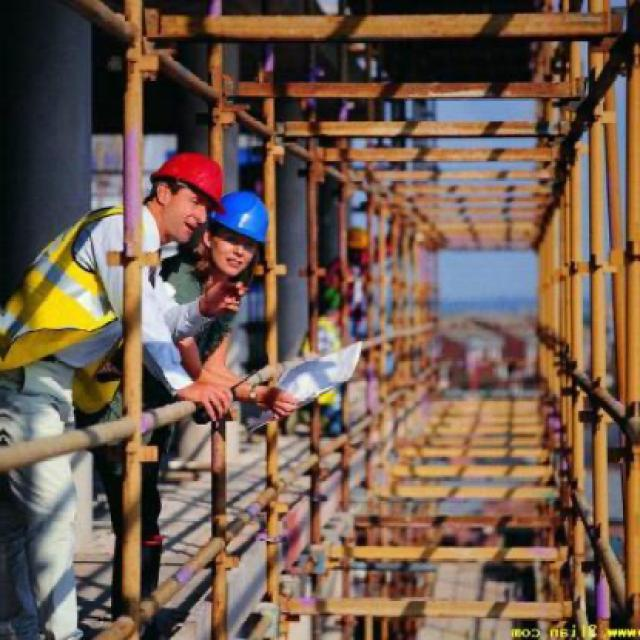con casco: (174, 139, 318, 288), (140, 124, 223, 230)
